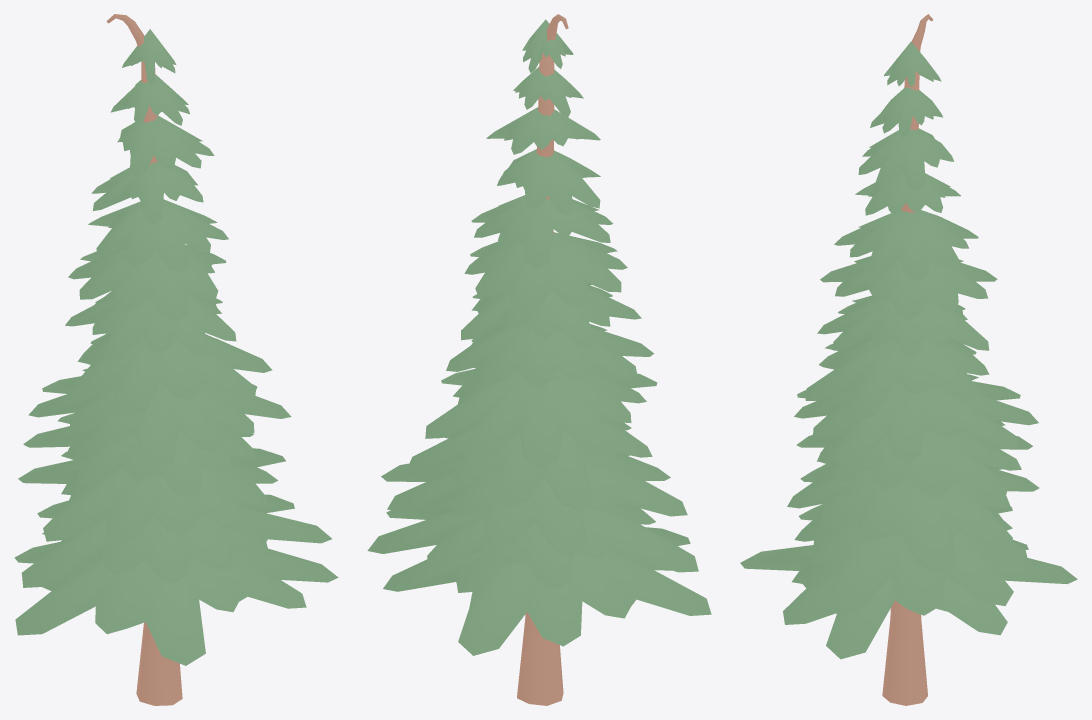
Rendered from Blender_Hemlock_2.glb.
3 views of the same model, side by side, from view 1: azimuth 30°, elevation 25°; view 2: azimuth 150°, elevation 25°; view 3: azimuth 270°, elevation 25° (orthographic). The views are drawn at different scales.
Parts seen in each view (by area): view 1: Blender_Hemlock_2; view 2: Blender_Hemlock_2; view 3: Blender_Hemlock_2.
Boxes of the visible parts, box(x1,y1,x2,y2) form: Blender_Hemlock_2: box(14, 14, 338, 705); Blender_Hemlock_2: box(367, 14, 711, 705); Blender_Hemlock_2: box(740, 14, 1077, 705).
Bounding box in the file's own units: 17.33 × 37.67 × 17.34.
